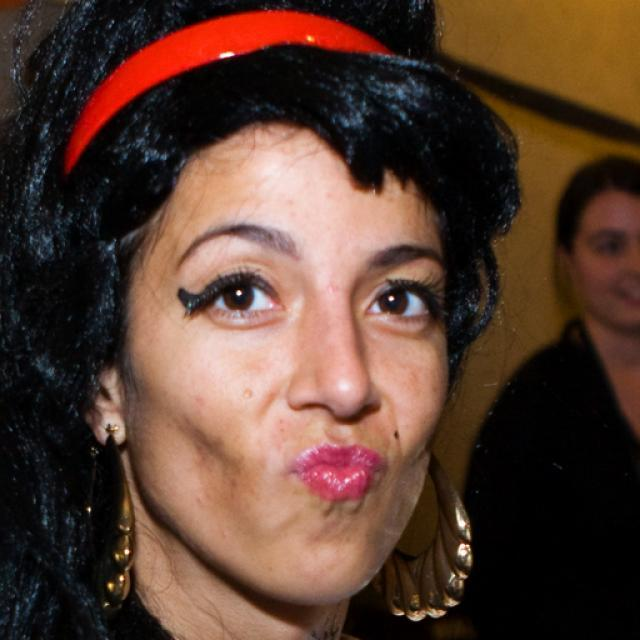content: (130, 121, 454, 606)
